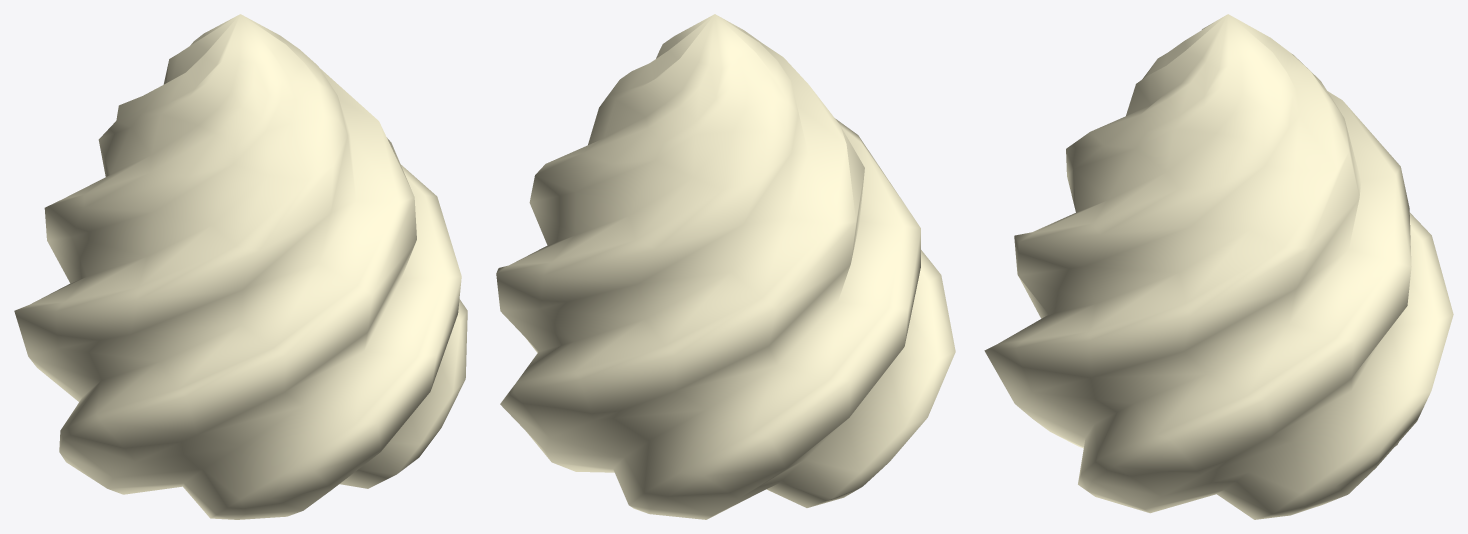
The model's file is Ice Cream Spiral C White.fbx.
The picture shows the model from 3 angles, left to right: view 1: azimuth 30°, elevation 25°; view 2: azimuth 150°, elevation 25°; view 3: azimuth 270°, elevation 25°; orthographic projection.
Visible parts, largest first — view 1: Ice Cream Spiral C White; view 2: Ice Cream Spiral C White; view 3: Ice Cream Spiral C White.
Boxes of the visible parts, left/top/right/bottom form: Ice Cream Spiral C White: left=14, top=14, right=467, bottom=519; Ice Cream Spiral C White: left=496, top=14, right=955, bottom=519; Ice Cream Spiral C White: left=984, top=14, right=1453, bottom=519.
Bounding box in the file's own units: 0.4215 × 0.4617 × 0.4308.
